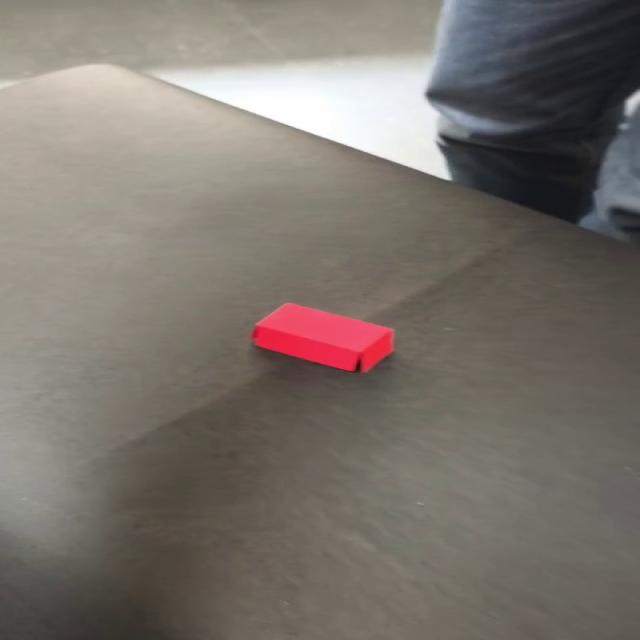red block: (249, 302, 395, 374)
